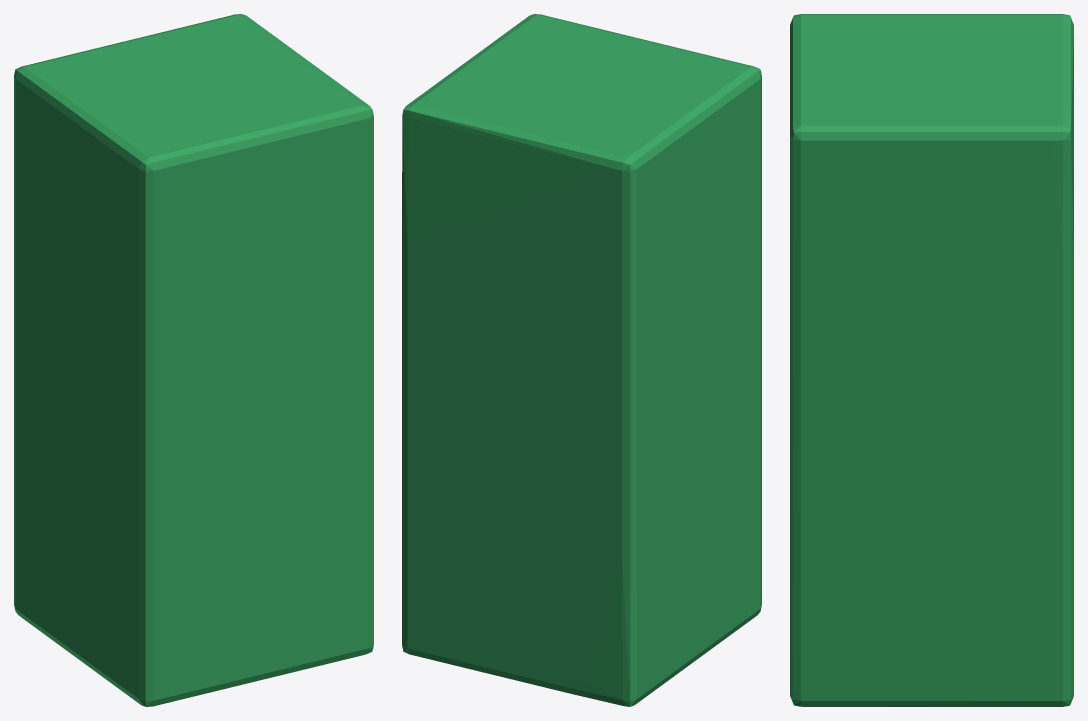
Rendered from left_hip_roll_link_part_10.obj.
The picture shows the model from 3 angles, left to right: view 1: azimuth 30°, elevation 25°; view 2: azimuth 150°, elevation 25°; view 3: azimuth 270°, elevation 25°; orthographic projection. The views are drawn at different scales.
Size of the model in its own units: 0.0335 by 0.0752 by 0.0334.
